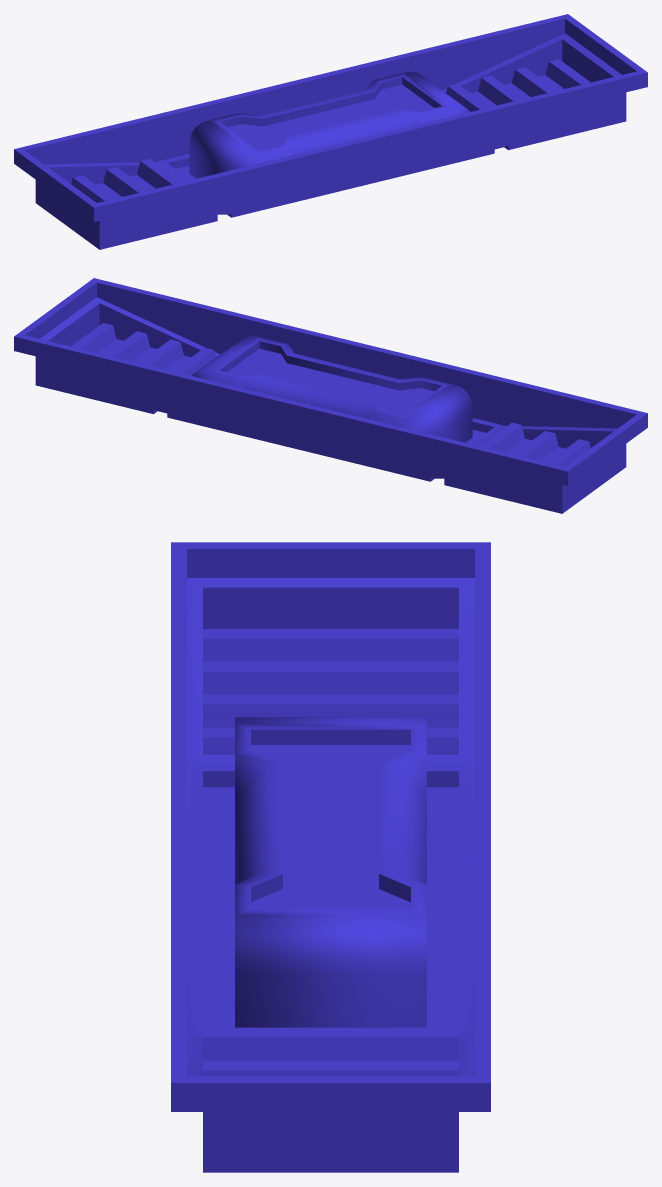
File: Ceiling_A_4x1m.FBX
3 views of the same model, one above another, from view 1: azimuth 30°, elevation 25°; view 2: azimuth 150°, elevation 25°; view 3: azimuth 270°, elevation 25° (orthographic). The views are drawn at different scales.
Visible parts, largest first — view 1: Ceiling_A_4x1m; view 2: Ceiling_A_4x1m; view 3: Ceiling_A_4x1m.
Boxes of the visible parts, x1,y1,x2,y2 form: Ceiling_A_4x1m: (14,14,647,249); Ceiling_A_4x1m: (14,278,647,513); Ceiling_A_4x1m: (171,542,490,1172).
Bounding box in the file's own units: 400 × 35.48 × 100.
